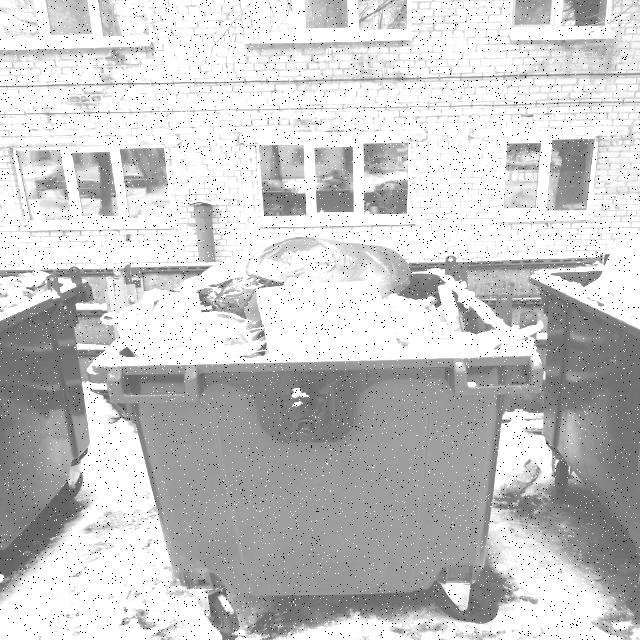Trashcan: (85, 230, 551, 640)
